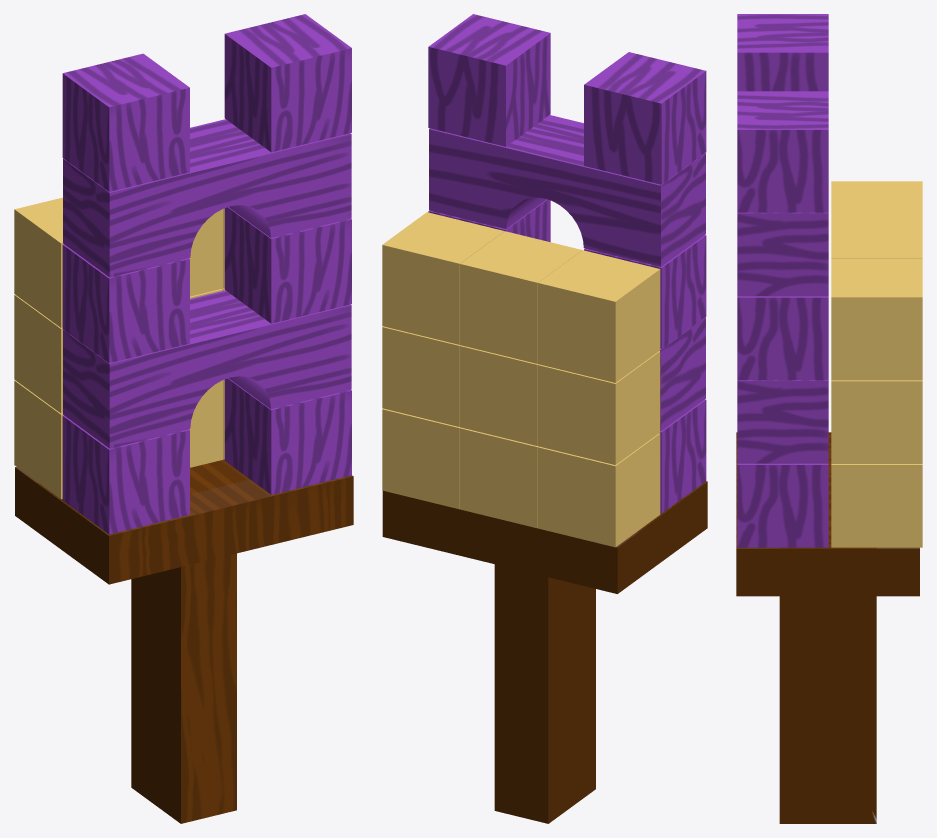
File: Level1-5x.fbx
3 renders of one model, left to right at view 1: azimuth 30°, elevation 25°; view 2: azimuth 150°, elevation 25°; view 3: azimuth 270°, elevation 25°, orthographic. The views are drawn at different scales.
Parts seen in each view (by area): view 1: Cube, Cube.004, Cube.001, Cube.007, Cube.008, Cube.002, Cube.005, Cube.006, Cube.003, Cube.016, Cube.010, Cube.013 (+2 smaller); view 2: Cube, Cube.004, Cube.007, Cube.008, Cube.016, Cube.010, Cube.013, Cube.017, Cube.015, Cube.011, Cube.009, Cube.014 (+5 smaller); view 3: Cube, Cube.008, Cube.017, Cube.003, Cube.004, Cube.006, Cube.001, Cube.011, Cube.014, Cube.007, Cube.015, Cube.016.
Part boxes in pixels (x1=…): Cube: x1=15, y1=459, x2=353, y2=823; Cube.004: x1=63, y1=119, x2=351, y2=277; Cube.001: x1=63, y1=290, x2=351, y2=448; Cube.007: x1=62, y1=53, x2=189, y2=191; Cube.008: x1=224, y1=14, x2=351, y2=152; Cube.002: x1=62, y1=415, x2=189, y2=534; Cube.005: x1=62, y1=244, x2=189, y2=363; Cube.006: x1=224, y1=207, x2=351, y2=323; Cube.003: x1=224, y1=378, x2=351, y2=494; Cube.016: x1=14, y1=197, x2=63, y2=327; Cube.010: x1=14, y1=380, x2=63, y2=499; Cube.013: x1=14, y1=294, x2=62, y2=413; Cube: x1=382, y1=481, x2=707, y2=823; Cube.004: x1=429, y1=115, x2=705, y2=266; Cube.007: x1=584, y1=52, x2=706, y2=184; Cube.008: x1=428, y1=14, x2=550, y2=146; Cube.016: x1=538, y1=250, x2=660, y2=382; Cube.010: x1=538, y1=433, x2=660, y2=547; Cube.013: x1=538, y1=351, x2=660, y2=464; Cube.017: x1=382, y1=212, x2=504, y2=344; Cube.015: x1=460, y1=231, x2=582, y2=363; Cube.011: x1=382, y1=408, x2=460, y2=509; Cube.009: x1=460, y1=427, x2=538, y2=528; Cube.014: x1=382, y1=326, x2=460, y2=426; Cube: x1=736, y1=432, x2=919, y2=823; Cube.008: x1=737, y1=91, x2=828, y2=212; Cube.017: x1=831, y1=259, x2=922, y2=380; Cube.003: x1=737, y1=463, x2=828, y2=547; Cube.004: x1=737, y1=212, x2=828, y2=296; Cube.006: x1=737, y1=296, x2=828, y2=380; Cube.001: x1=737, y1=380, x2=828, y2=463; Cube.011: x1=831, y1=464, x2=922, y2=547; Cube.014: x1=831, y1=380, x2=922, y2=463; Cube.007: x1=737, y1=14, x2=828, y2=91; Cube.015: x1=831, y1=220, x2=922, y2=258; Cube.016: x1=831, y1=181, x2=922, y2=219.
Bounding box in the file's own units: 605 × 1786 × 409.
